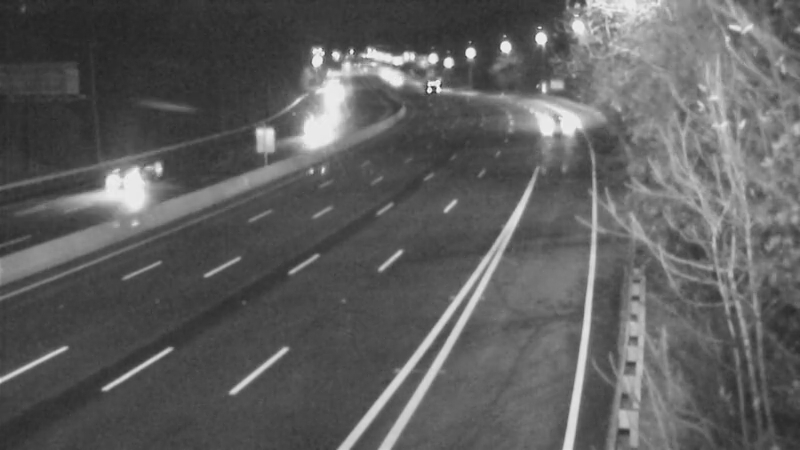vehicle: (93, 143, 173, 223), (407, 64, 457, 114), (370, 55, 420, 105), (527, 99, 577, 149), (288, 103, 338, 153)
